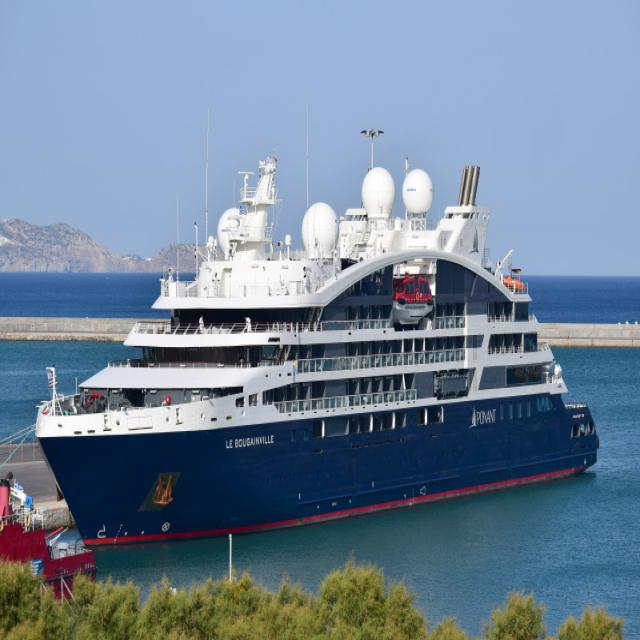cruises: (28, 152, 604, 556)
